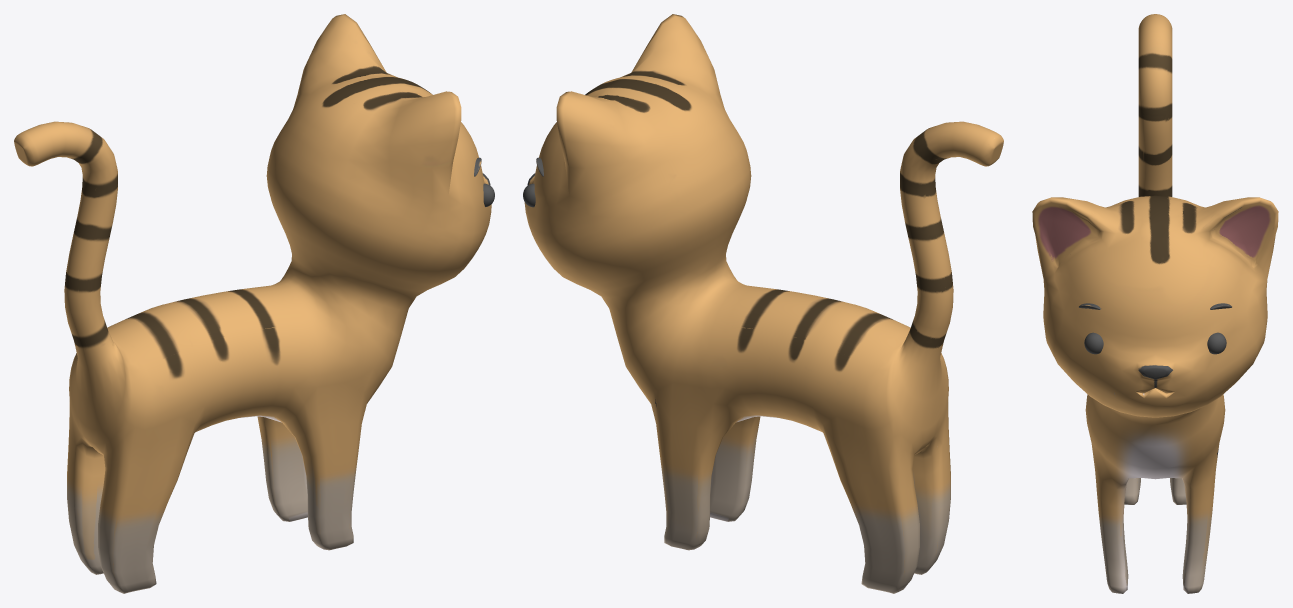
File: New Cat.fbx
The picture shows the model from 3 angles, left to right: view 1: azimuth 30°, elevation 25°; view 2: azimuth 150°, elevation 25°; view 3: azimuth 270°, elevation 25°; orthographic projection. The views are drawn at different scales.
Parts seen in each view (by area): view 1: Cylinder; view 2: Cylinder; view 3: Cylinder.
Part boxes in pixels (x1,y1,x2,y2): Cylinder: (14,14,494,593); Cylinder: (523,14,1003,593); Cylinder: (1032,14,1278,593).
Size of the model in its own units: 6.72 by 6.51 by 3.27.
